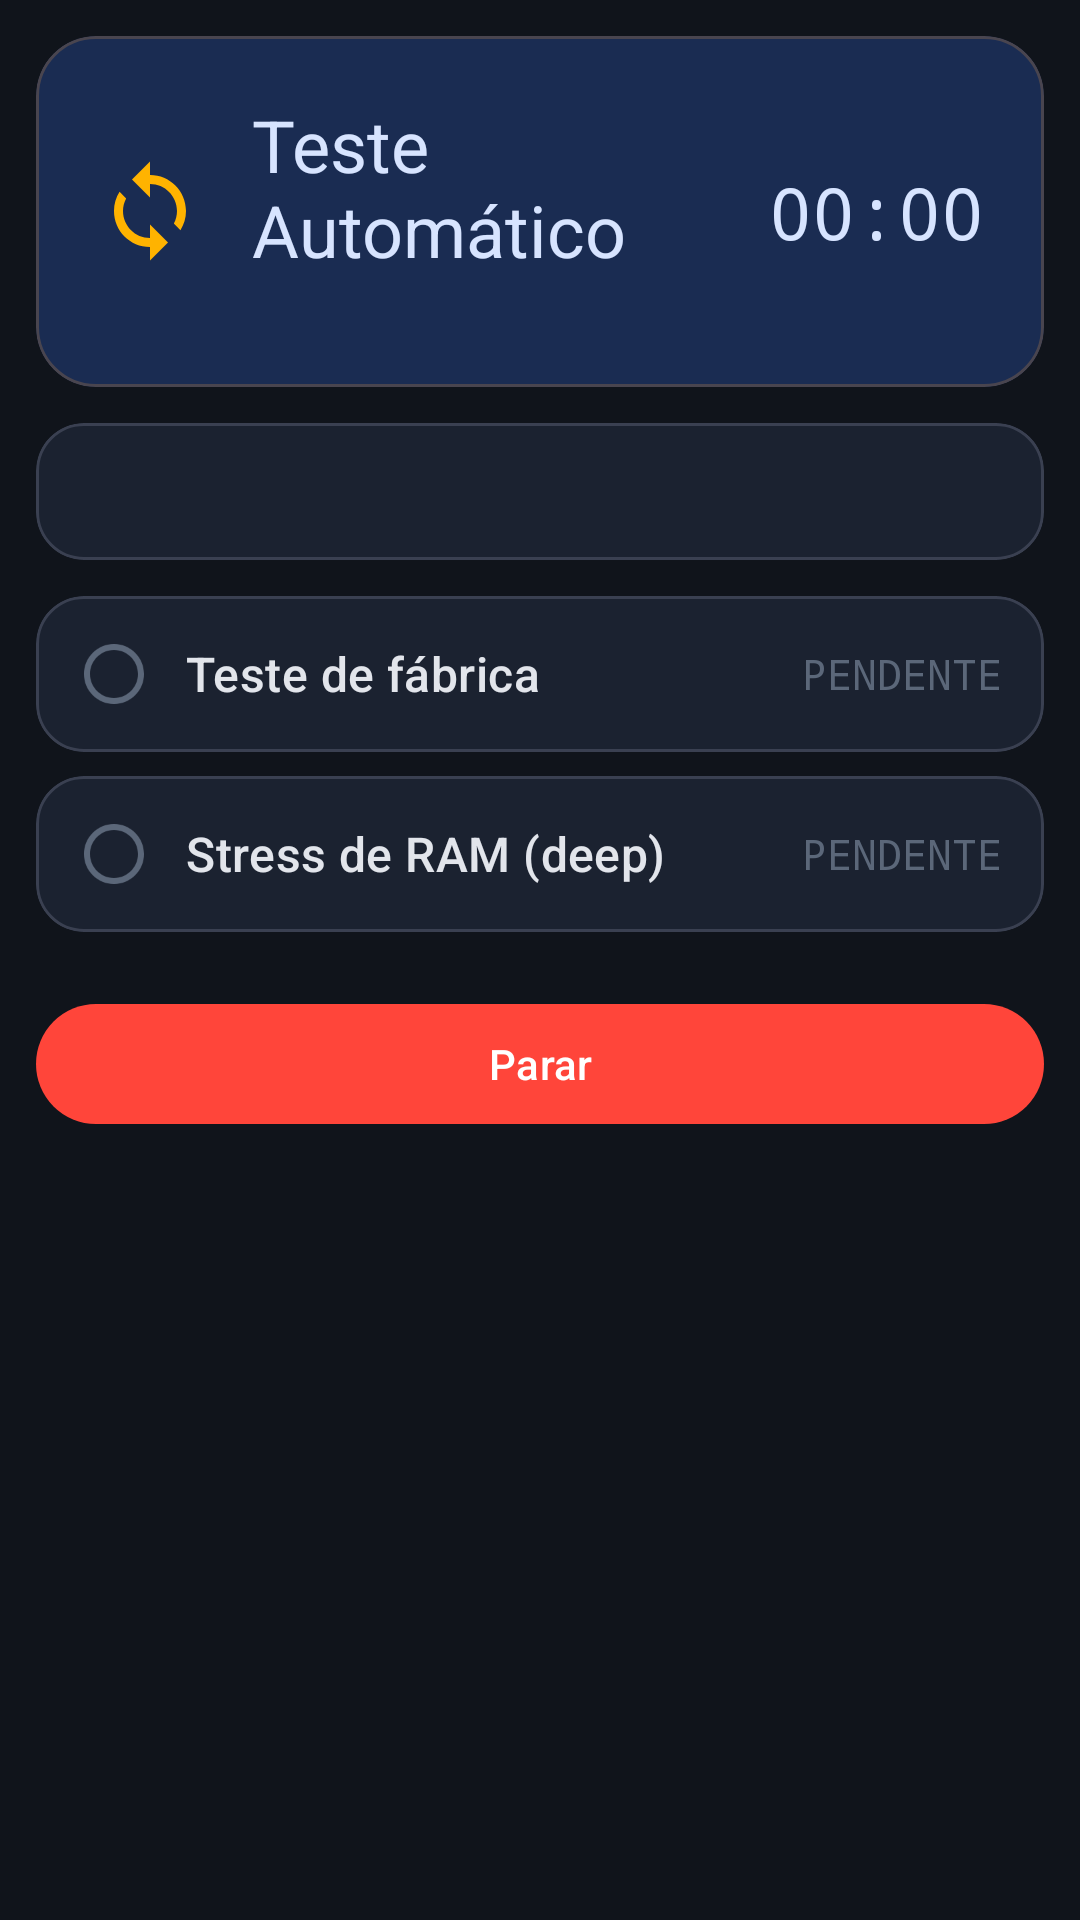

Named icons in this screenshot (1080 × 1920) and their bounding boxes, (left=x1, top=y1, right=x2, bottom=y2):
running: (left=114, top=161, right=186, bottom=261)
